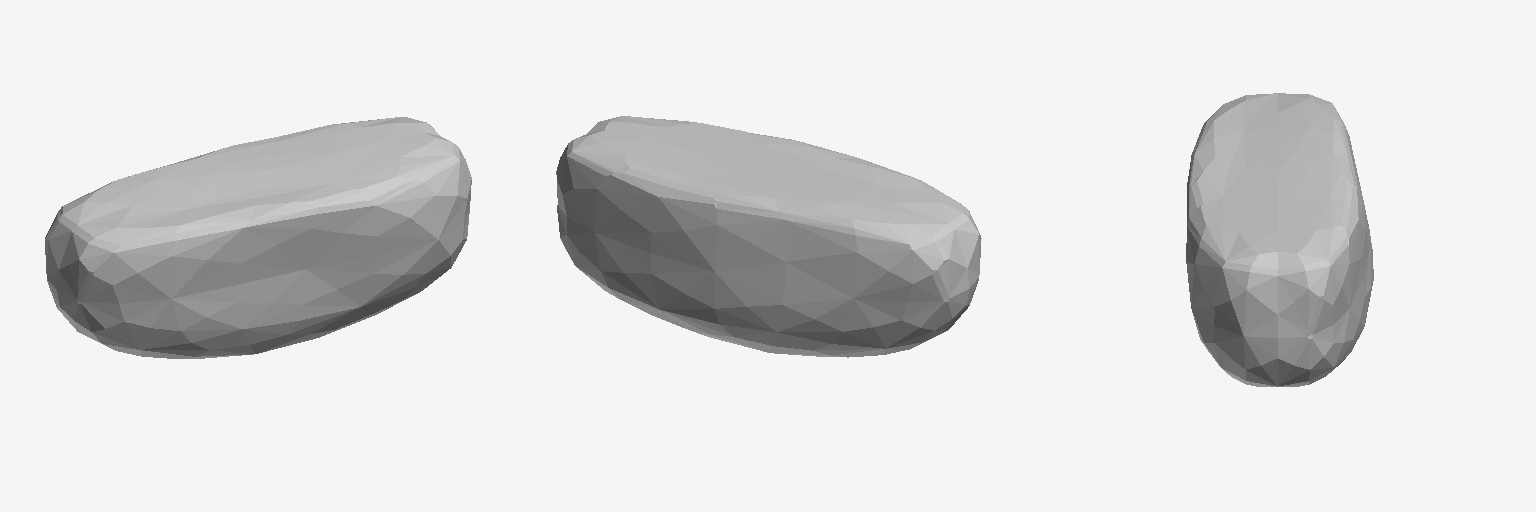
The model's file is Rock1.obj.
3 renders of one model, left to right at view 1: azimuth 30°, elevation 25°; view 2: azimuth 150°, elevation 25°; view 3: azimuth 270°, elevation 25°, orthographic.
Parts seen in each view (by area): view 1: Icosphere; view 2: Icosphere; view 3: Icosphere.
Boxes of the visible parts, <box> form: Icosphere: <box>45,117,471,358</box>; Icosphere: <box>556,116,981,357</box>; Icosphere: <box>1186,93,1373,386</box>.
Size of the model in its own units: 11.31 by 4.63 by 4.58.